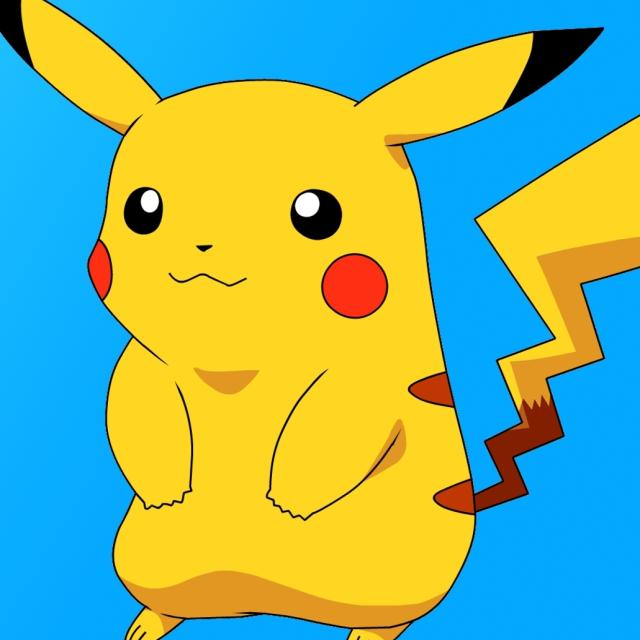Pikachu: (85, 84, 474, 621)
